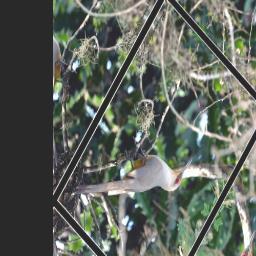Cuckoo: (69, 84, 195, 256)
